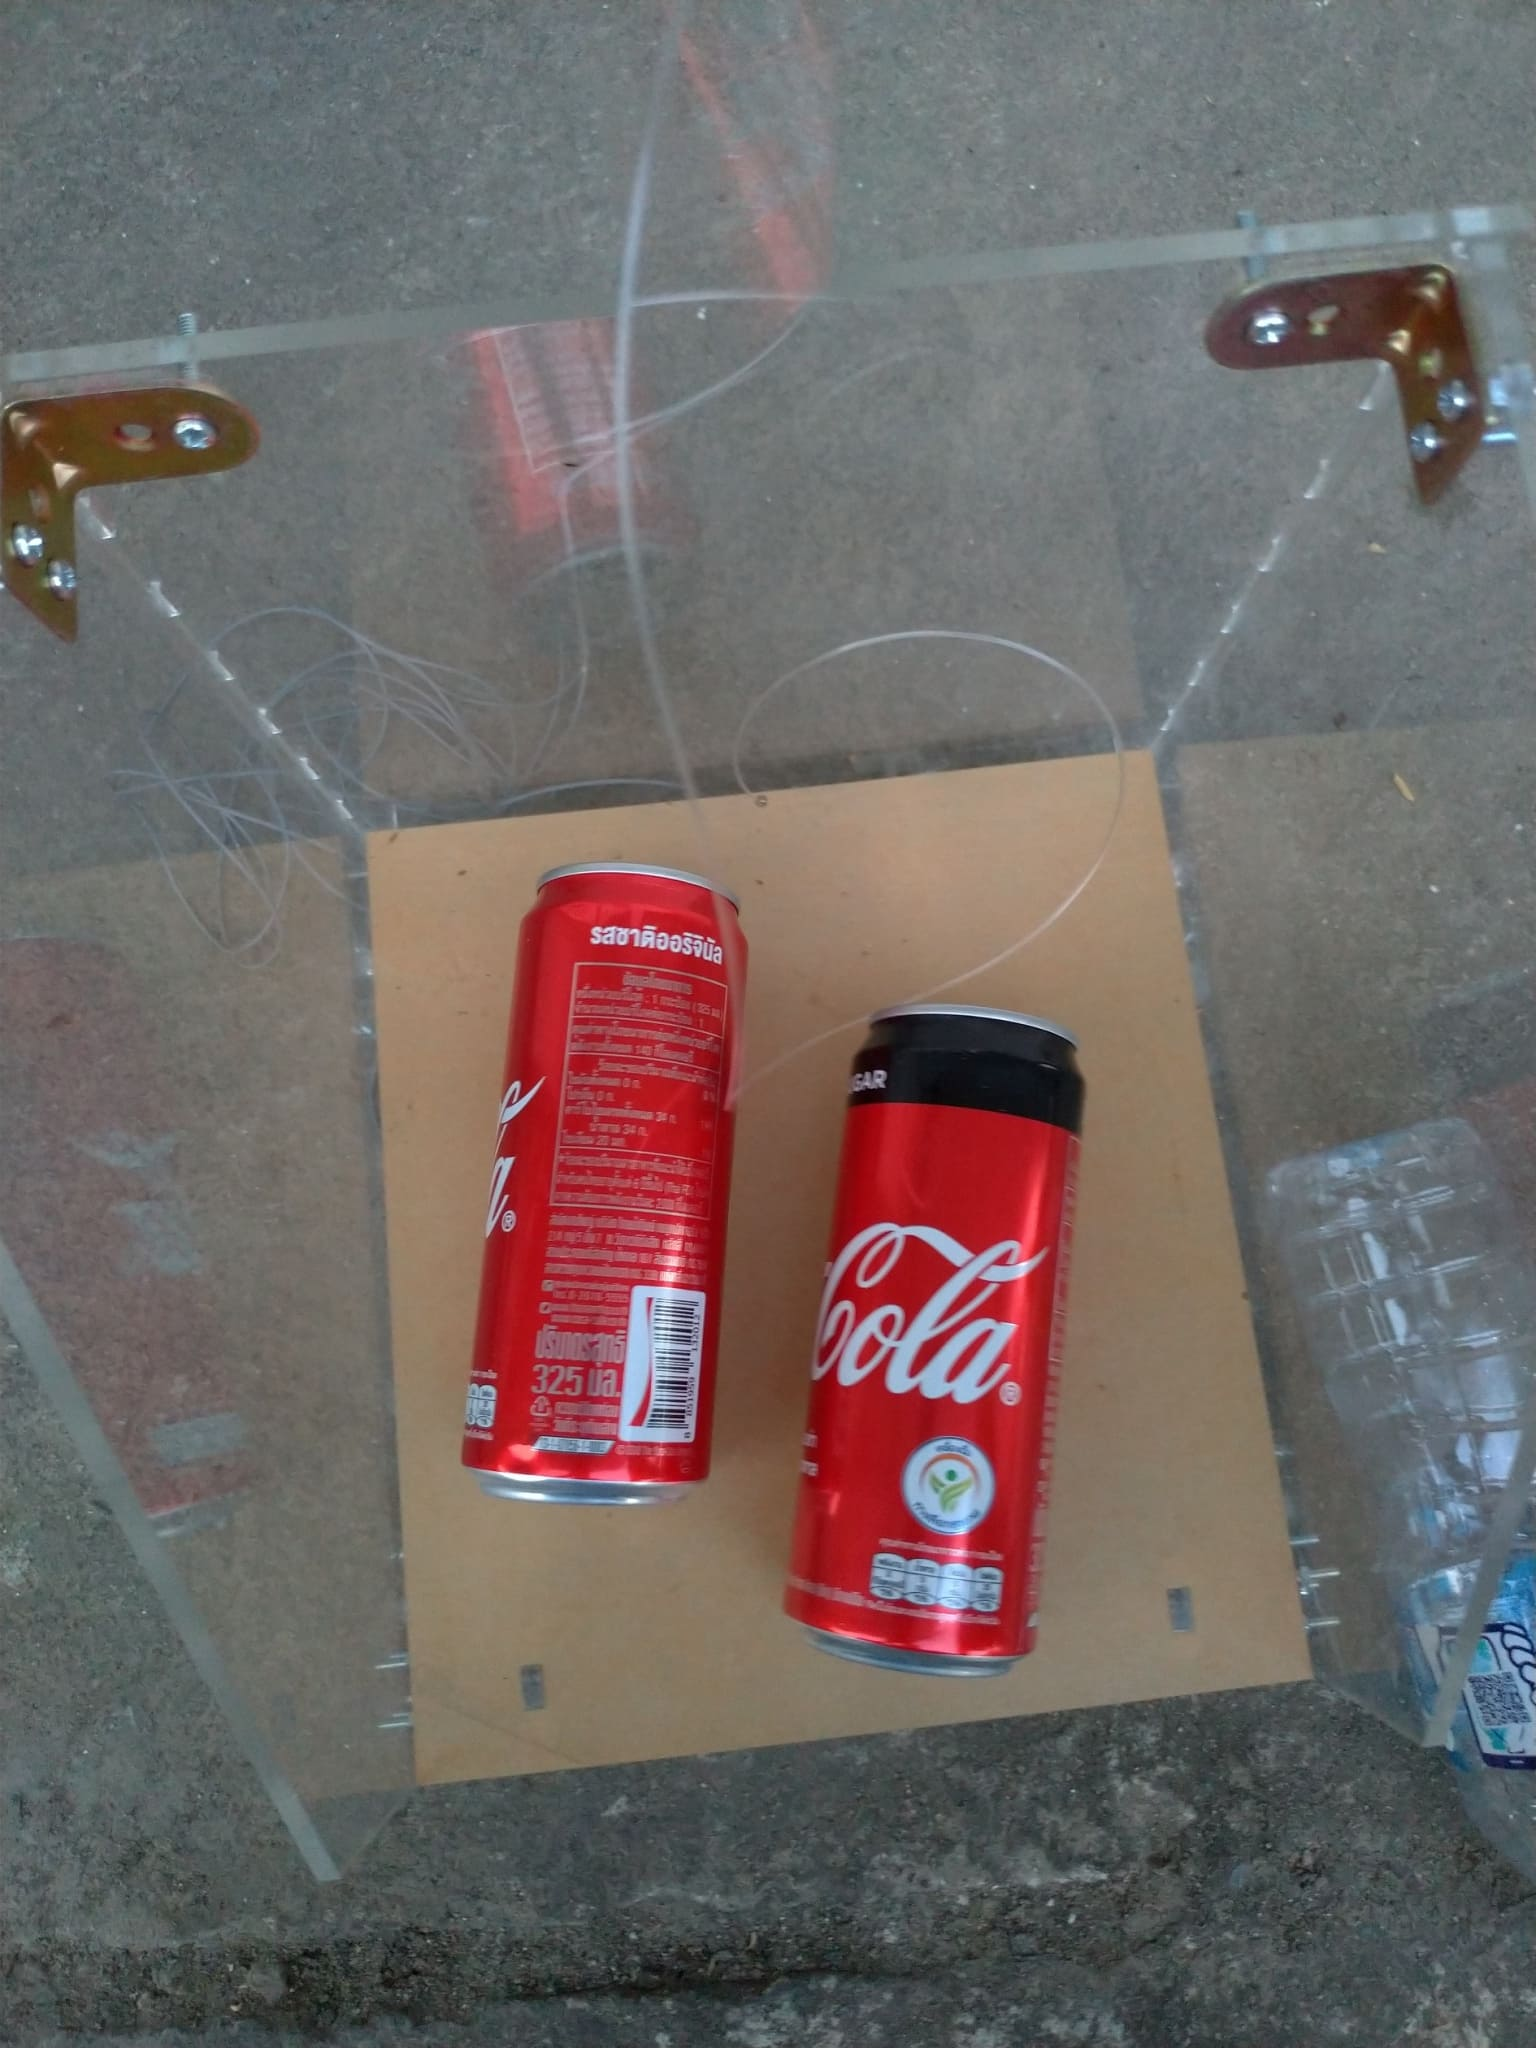AlCan: (786, 998, 1087, 1680), (460, 861, 747, 1511)
PlasticBottle: (1260, 1118, 1534, 1871)
